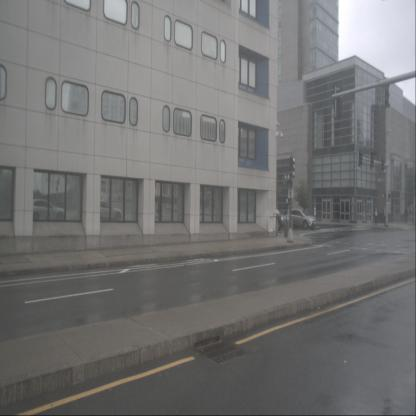human-pedestrian-adult: (373, 207, 378, 226), (383, 207, 387, 226), (404, 207, 408, 224)
vehicle-car: (26, 199, 66, 223), (260, 207, 290, 231), (90, 200, 122, 222), (283, 209, 316, 230)
